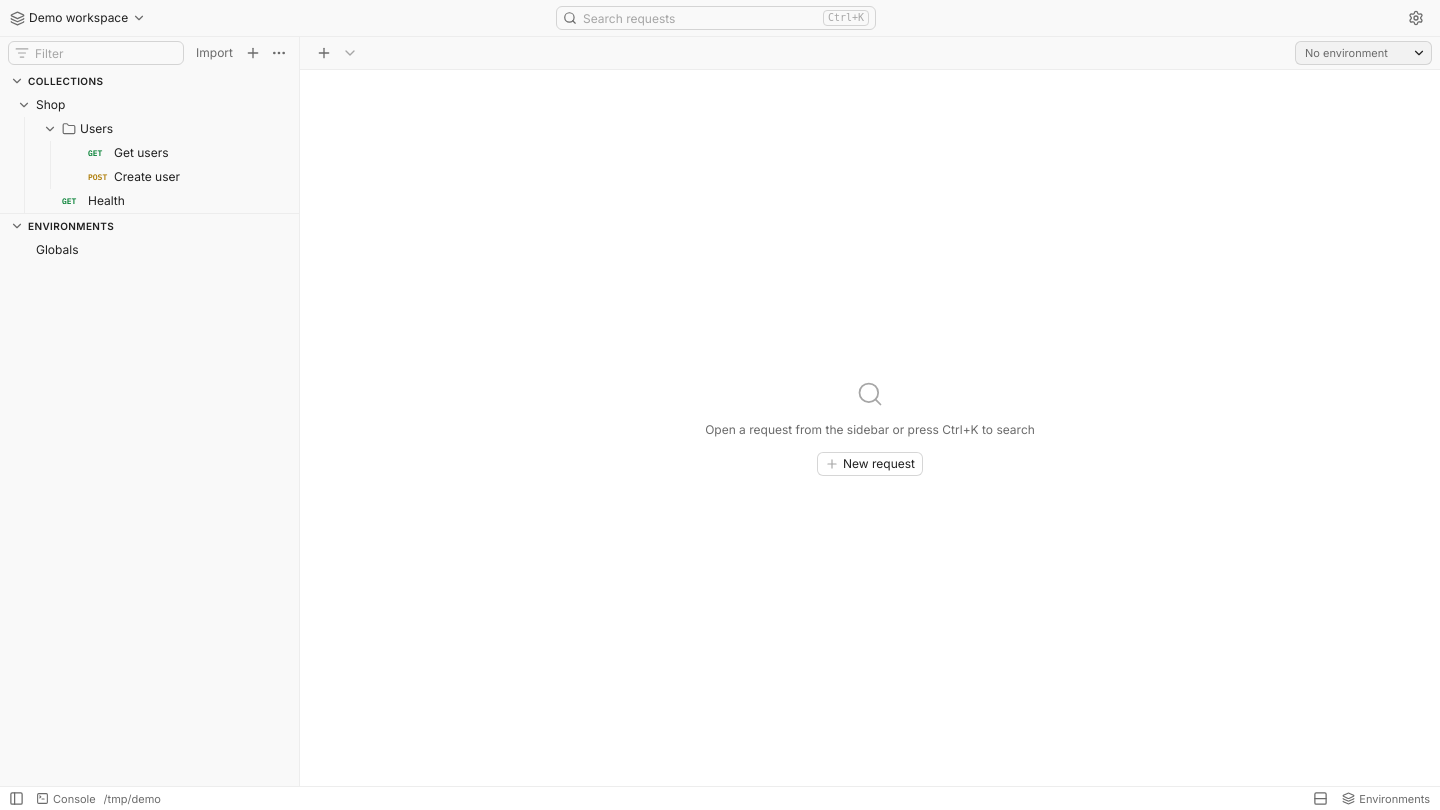
it: configuration › selects every request by default, in tree order, and shows the environment
The image size is (1440, 810).
Right-click the list item "Shop".
right_click(99, 152)  # box [17, 97, 180, 208]
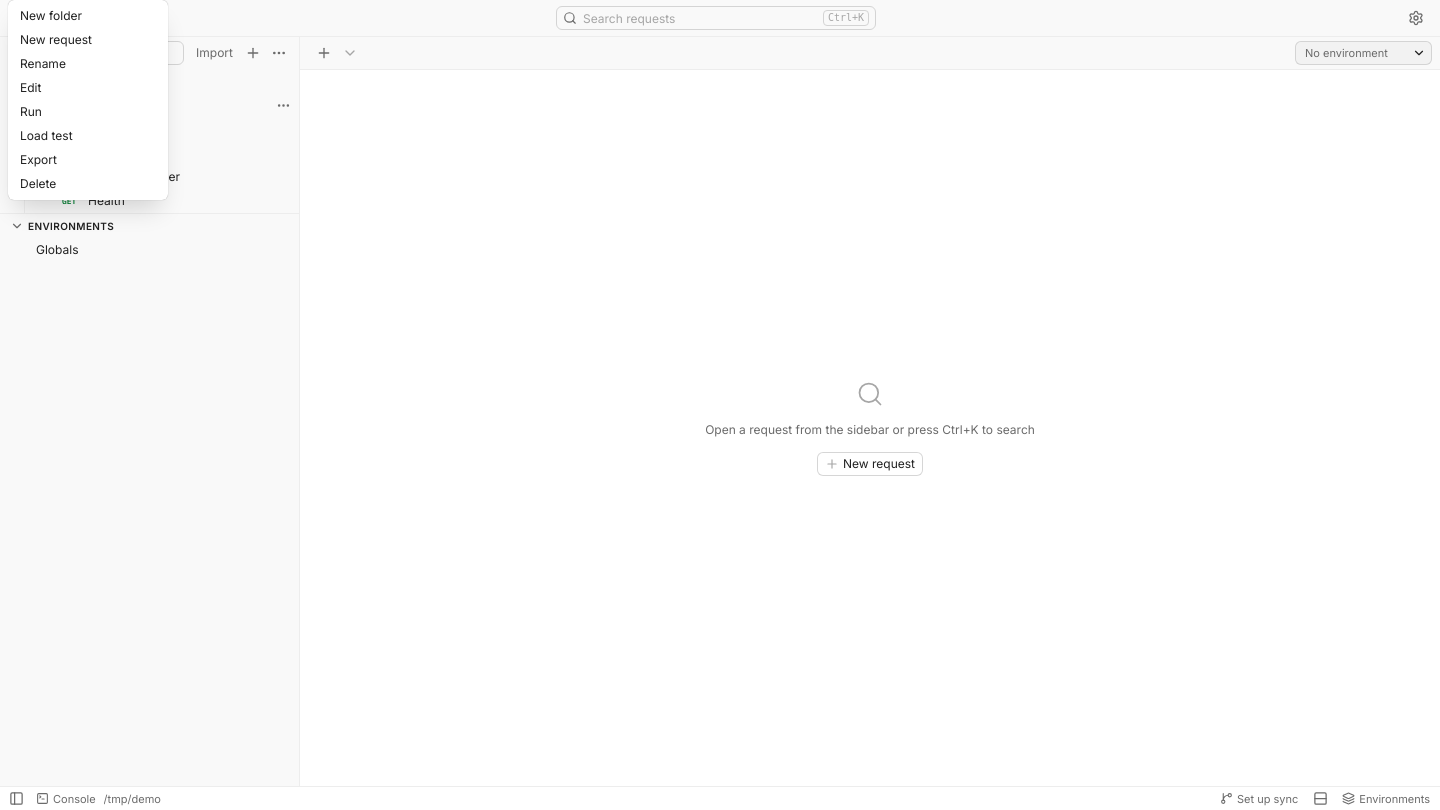
Click the menu item "Run".
click(88, 112)  # box [12, 100, 164, 124]
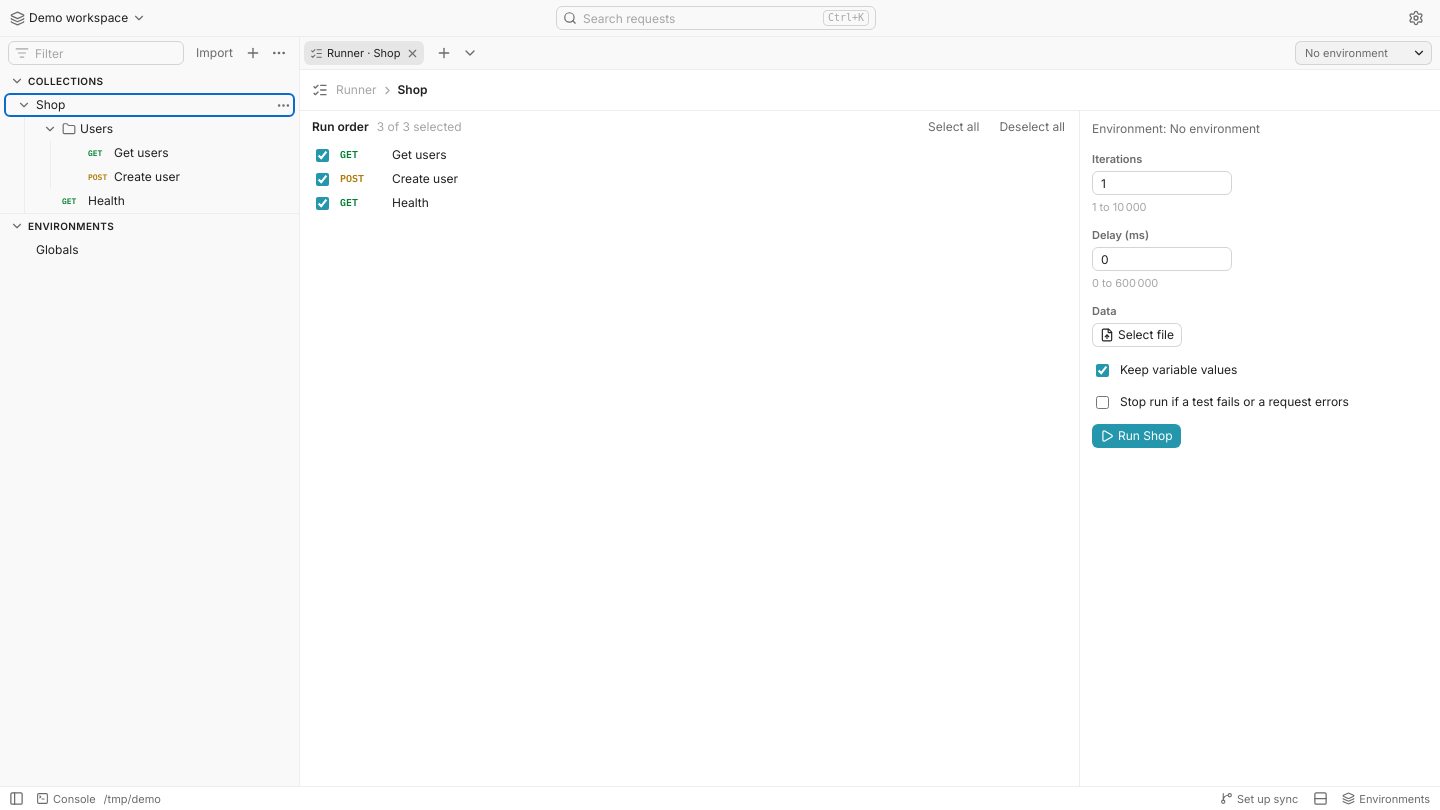
Expected: the checkbox labelled "GET Get users" is checked, [316, 148, 329, 162]
Expected: the checkbox labelled "POST Create user" is checked, [316, 172, 329, 186]
Expected: the checkbox labelled "GET Health" is checked, [316, 196, 329, 210]
